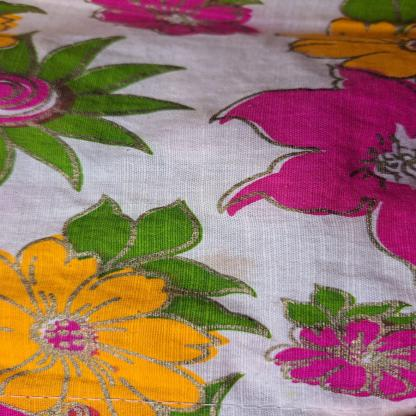spot: (192, 245, 260, 279), (107, 364, 124, 374), (284, 389, 297, 399)
